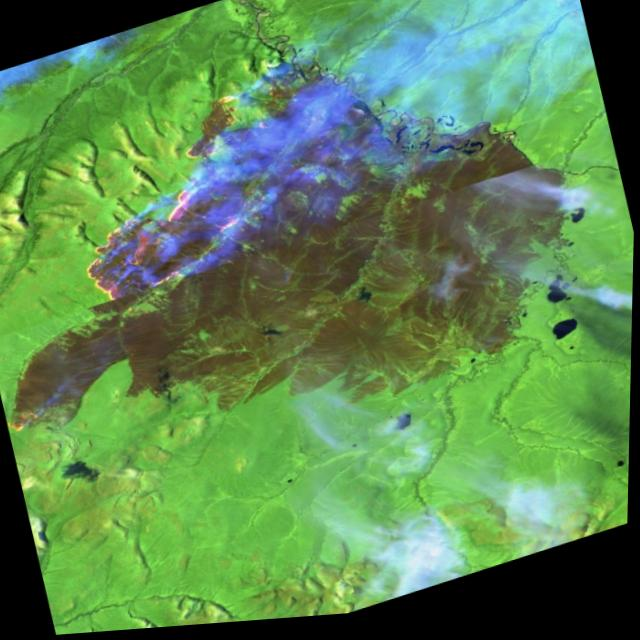fire: (24, 37, 368, 317)
